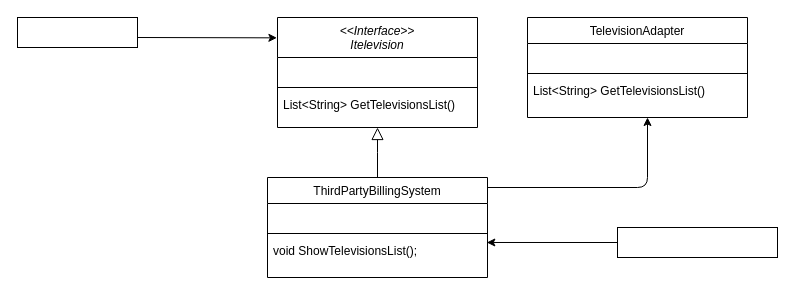
Some shapes in this 795 by 295 pixel diagram are drawn without their labels. Here are the shapes that lost their labels. From the top down, the centre of each, then its label:
At point (77, 32): "Client".
At point (697, 242): "HRSystem specificRequest".
